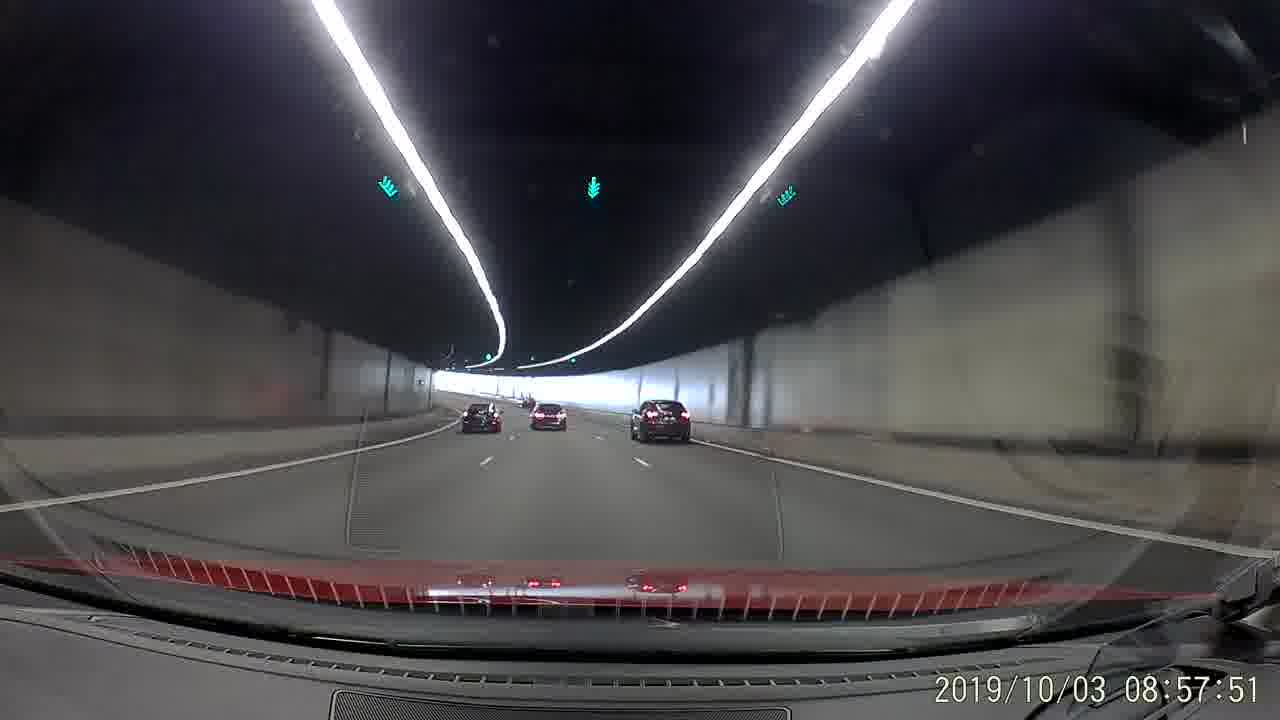car: (629, 400, 693, 446), (460, 401, 504, 436), (529, 401, 567, 432)
